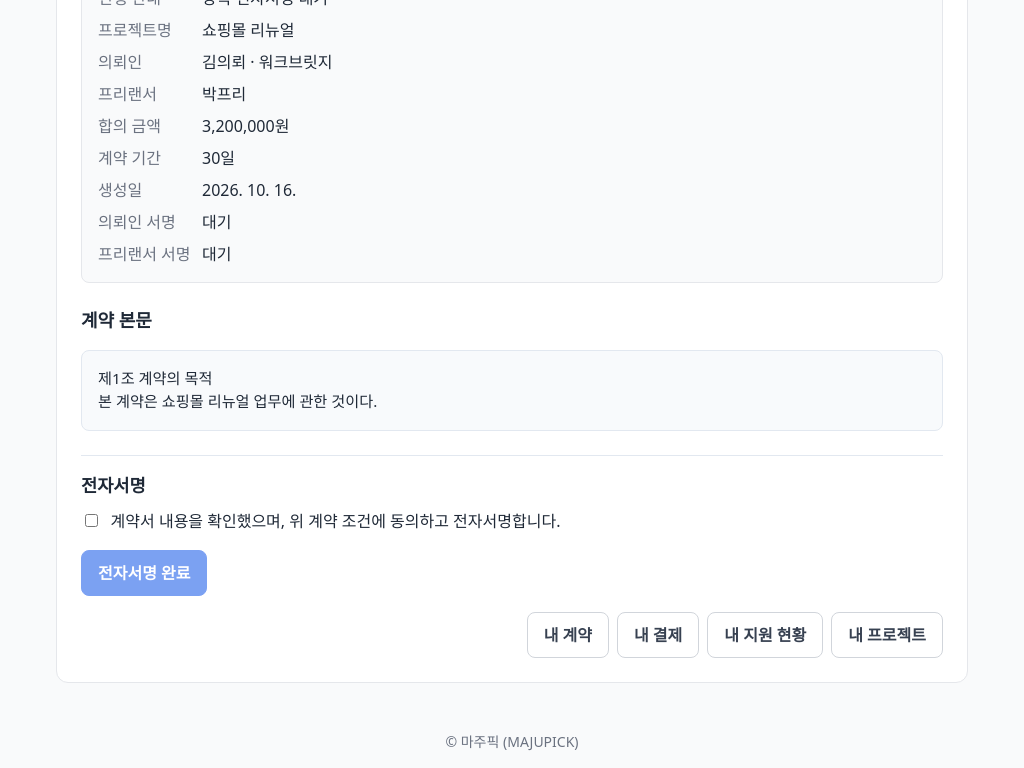
Scenario: contract signature UI (CTR-05) › 동의 후 서명하면 상대방 서명 대기로 바뀌고 버튼을 숨긴다
(page scrolled)
expect the button "전자서명 완료" is shown: met, box x1=81 y1=550 x2=208 y2=596
Click the checkbox. click: [92, 520]
box: x1=85 y1=514 x2=98 y2=526
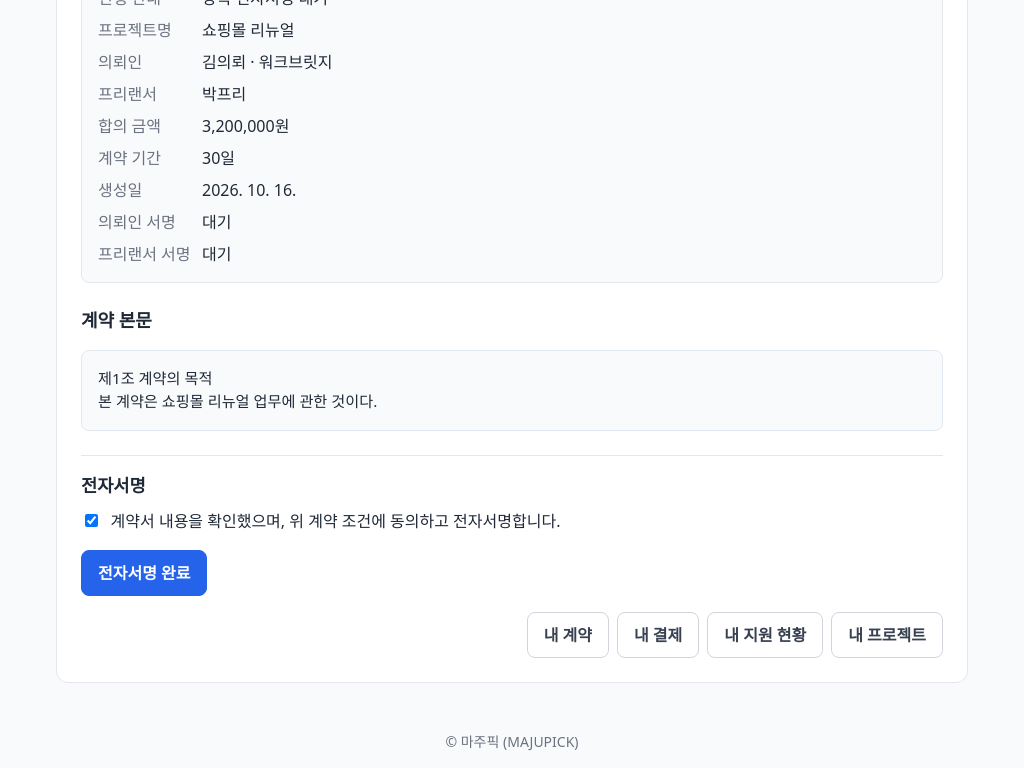
Click the button "전자서명 완료". click: [144, 572]
box: x1=81 y1=550 x2=208 y2=596
(page scrolled)
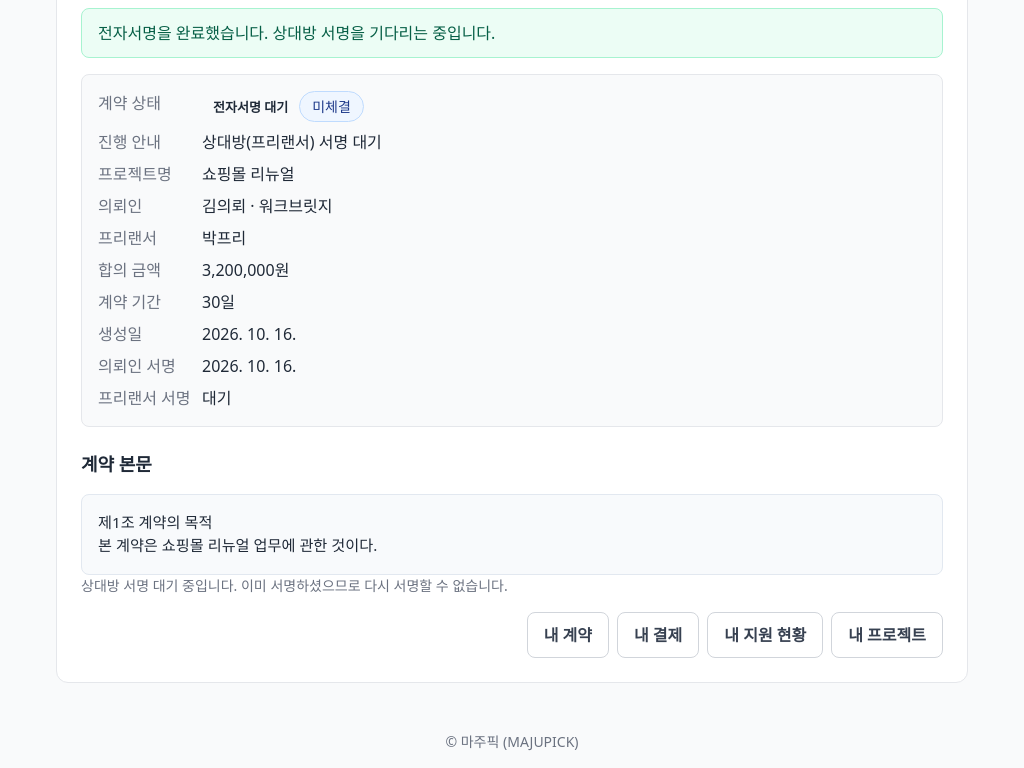
expect the text "전자서명을 완료했습니다. 상대방 서명을 기다리는 중입니다." is shown: met, box x1=81 y1=8 x2=943 y2=58
expect the button "전자서명 완료" is gone: met
expect the text "상대방 서명 대기 중입니다. 이미 서명하셨으므로 다시 서명할 수 없습니다." is shown: met, box x1=81 y1=576 x2=508 y2=595
